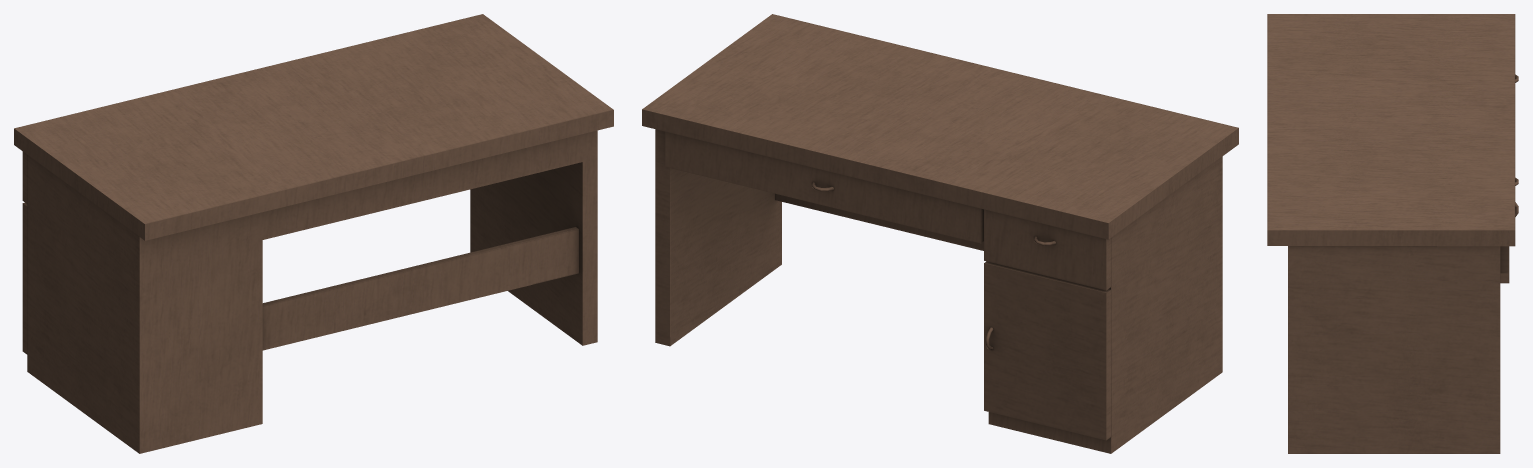
The model's file is Table.fbx.
3 renders of one model, left to right at view 1: azimuth 30°, elevation 25°; view 2: azimuth 150°, elevation 25°; view 3: azimuth 270°, elevation 25°, orthographic. The views are drawn at different scales.
Visible parts, largest first — view 1: Cube; view 2: Cube; view 3: Cube.
Part boxes in pixels (x1,y1,x2,y2): Cube: (14, 14, 613, 453); Cube: (642, 14, 1238, 453); Cube: (1267, 14, 1518, 453).
Bounding box in the file's own units: 434 × 211 × 213.
1 material, 1 textured.
